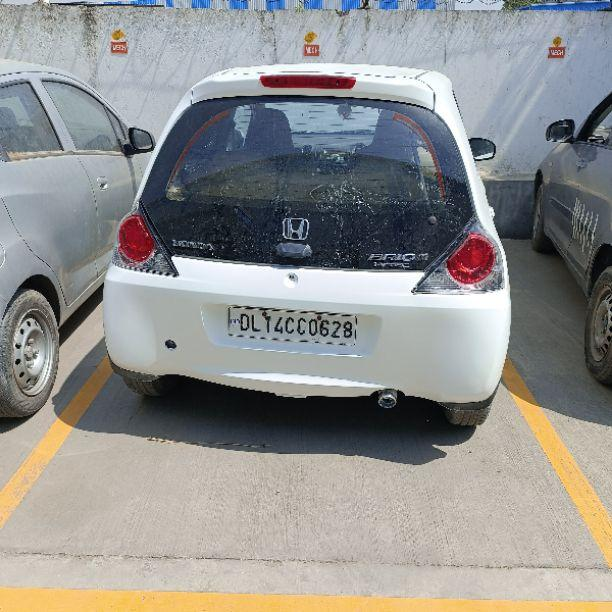license_plate: (225, 304, 358, 346)
